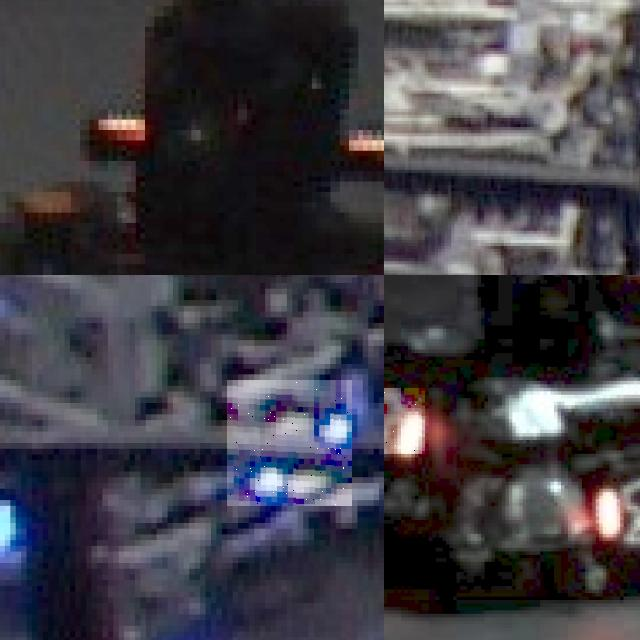B2: (227, 380, 352, 506), (0, 474, 29, 560)
Rs: (595, 471, 640, 540), (384, 388, 425, 454)
